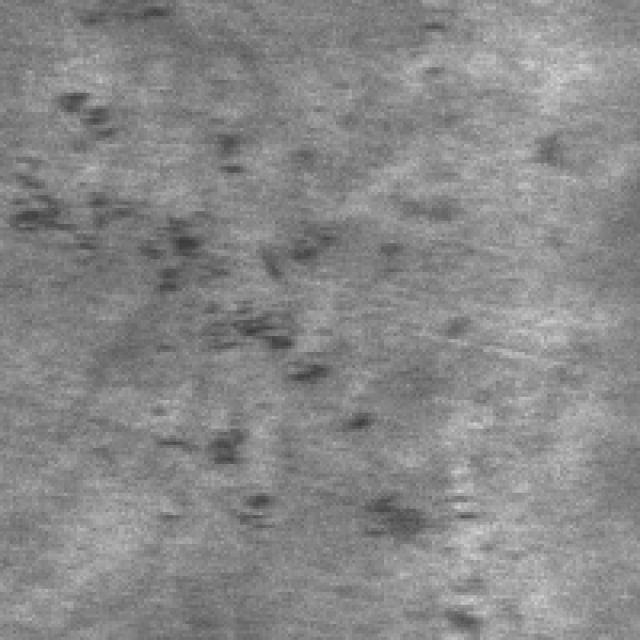rolled-in_scale: (26, 186, 442, 544)
